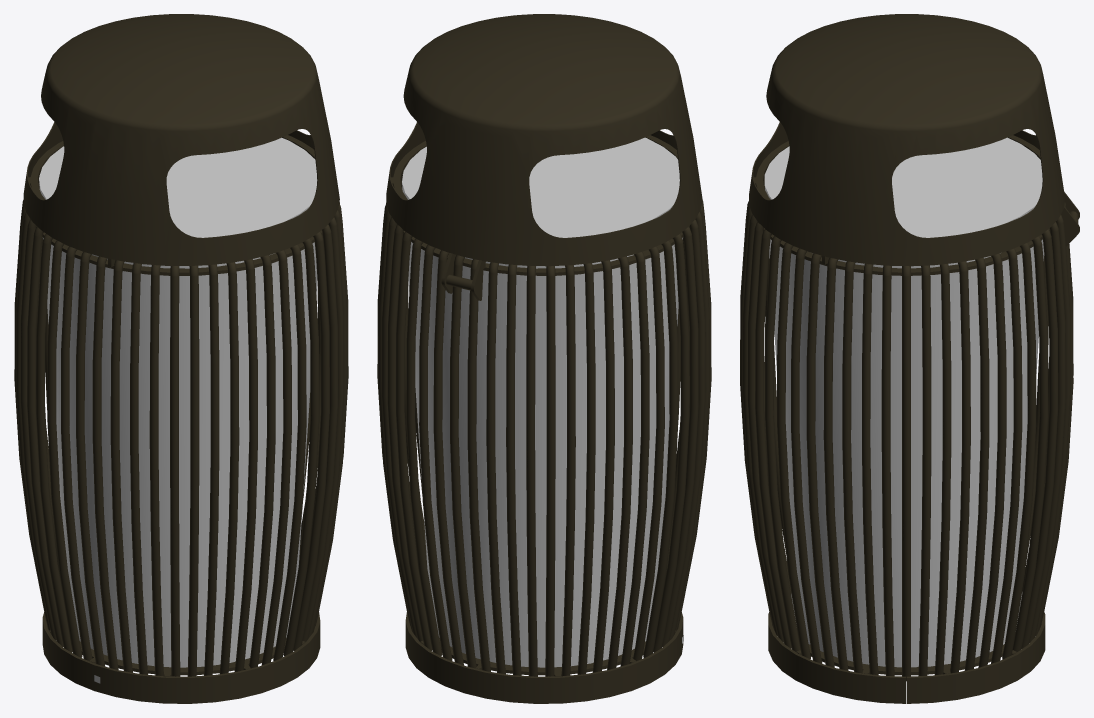
3 renders of one model, left to right at view 1: azimuth 30°, elevation 25°; view 2: azimuth 150°, elevation 25°; view 3: azimuth 270°, elevation 25°, orthographic.
Parts seen in each view (by area): view 1: mesh1_mesh1-geometry, mesh43_mesh43-geometry, mesh28_mesh28-geometry, mesh26_mesh26-geometry, mesh4_mesh4-geometry, mesh9_mesh9-geometry, mesh29_mesh29-geometry; view 2: mesh1_mesh1-geometry, mesh43_mesh43-geometry, mesh28_mesh28-geometry, mesh26_mesh26-geometry, mesh4_mesh4-geometry, mesh9_mesh9-geometry, mesh29_mesh29-geometry; view 3: mesh1_mesh1-geometry, mesh43_mesh43-geometry, mesh28_mesh28-geometry, mesh26_mesh26-geometry, mesh4_mesh4-geometry, mesh9_mesh9-geometry, mesh29_mesh29-geometry.
Boxes of the visible parts, bbox=[...] form: mesh1_mesh1-geometry: bbox=[14, 179, 348, 676]; mesh43_mesh43-geometry: bbox=[39, 137, 317, 667]; mesh28_mesh28-geometry: bbox=[23, 14, 339, 265]; mesh26_mesh26-geometry: bbox=[42, 612, 320, 703]; mesh4_mesh4-geometry: bbox=[36, 226, 322, 275]; mesh9_mesh9-geometry: bbox=[49, 630, 305, 676]; mesh29_mesh29-geometry: bbox=[28, 135, 315, 214]; mesh1_mesh1-geometry: bbox=[377, 175, 711, 676]; mesh43_mesh43-geometry: bbox=[402, 137, 682, 667]; mesh28_mesh28-geometry: bbox=[386, 14, 702, 266]; mesh26_mesh26-geometry: bbox=[405, 612, 683, 703]; mesh4_mesh4-geometry: bbox=[403, 226, 689, 275]; mesh9_mesh9-geometry: bbox=[420, 630, 676, 676]; mesh29_mesh29-geometry: bbox=[391, 135, 677, 215]; mesh1_mesh1-geometry: bbox=[740, 177, 1073, 681]; mesh43_mesh43-geometry: bbox=[764, 137, 1044, 667]; mesh28_mesh28-geometry: bbox=[749, 14, 1065, 266]; mesh26_mesh26-geometry: bbox=[768, 612, 1045, 703]; mesh4_mesh4-geometry: bbox=[763, 228, 1049, 275]; mesh9_mesh9-geometry: bbox=[796, 644, 1016, 675]; mesh29_mesh29-geometry: bbox=[753, 135, 1040, 215].
Bounding box in the file's own units: 0.4128 × 0.8082 × 0.42.
